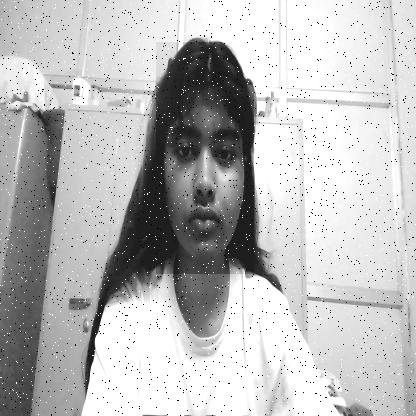Normal: (156, 42, 254, 274)
